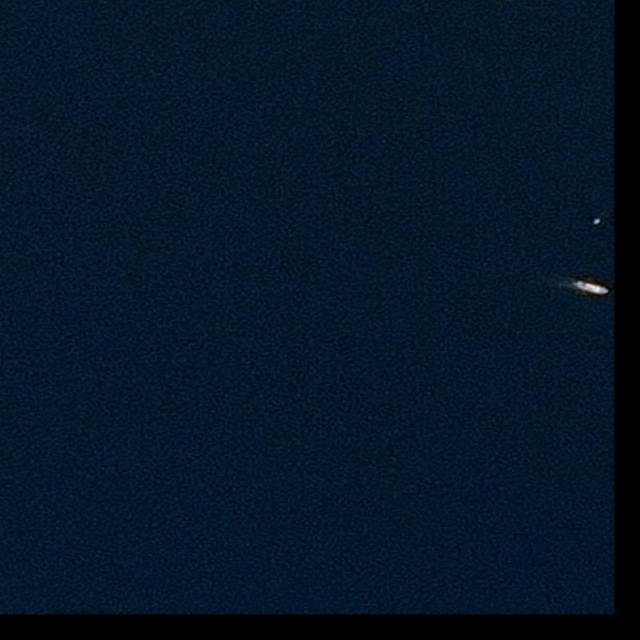ship: (575, 279, 609, 297), (593, 218, 601, 225)
